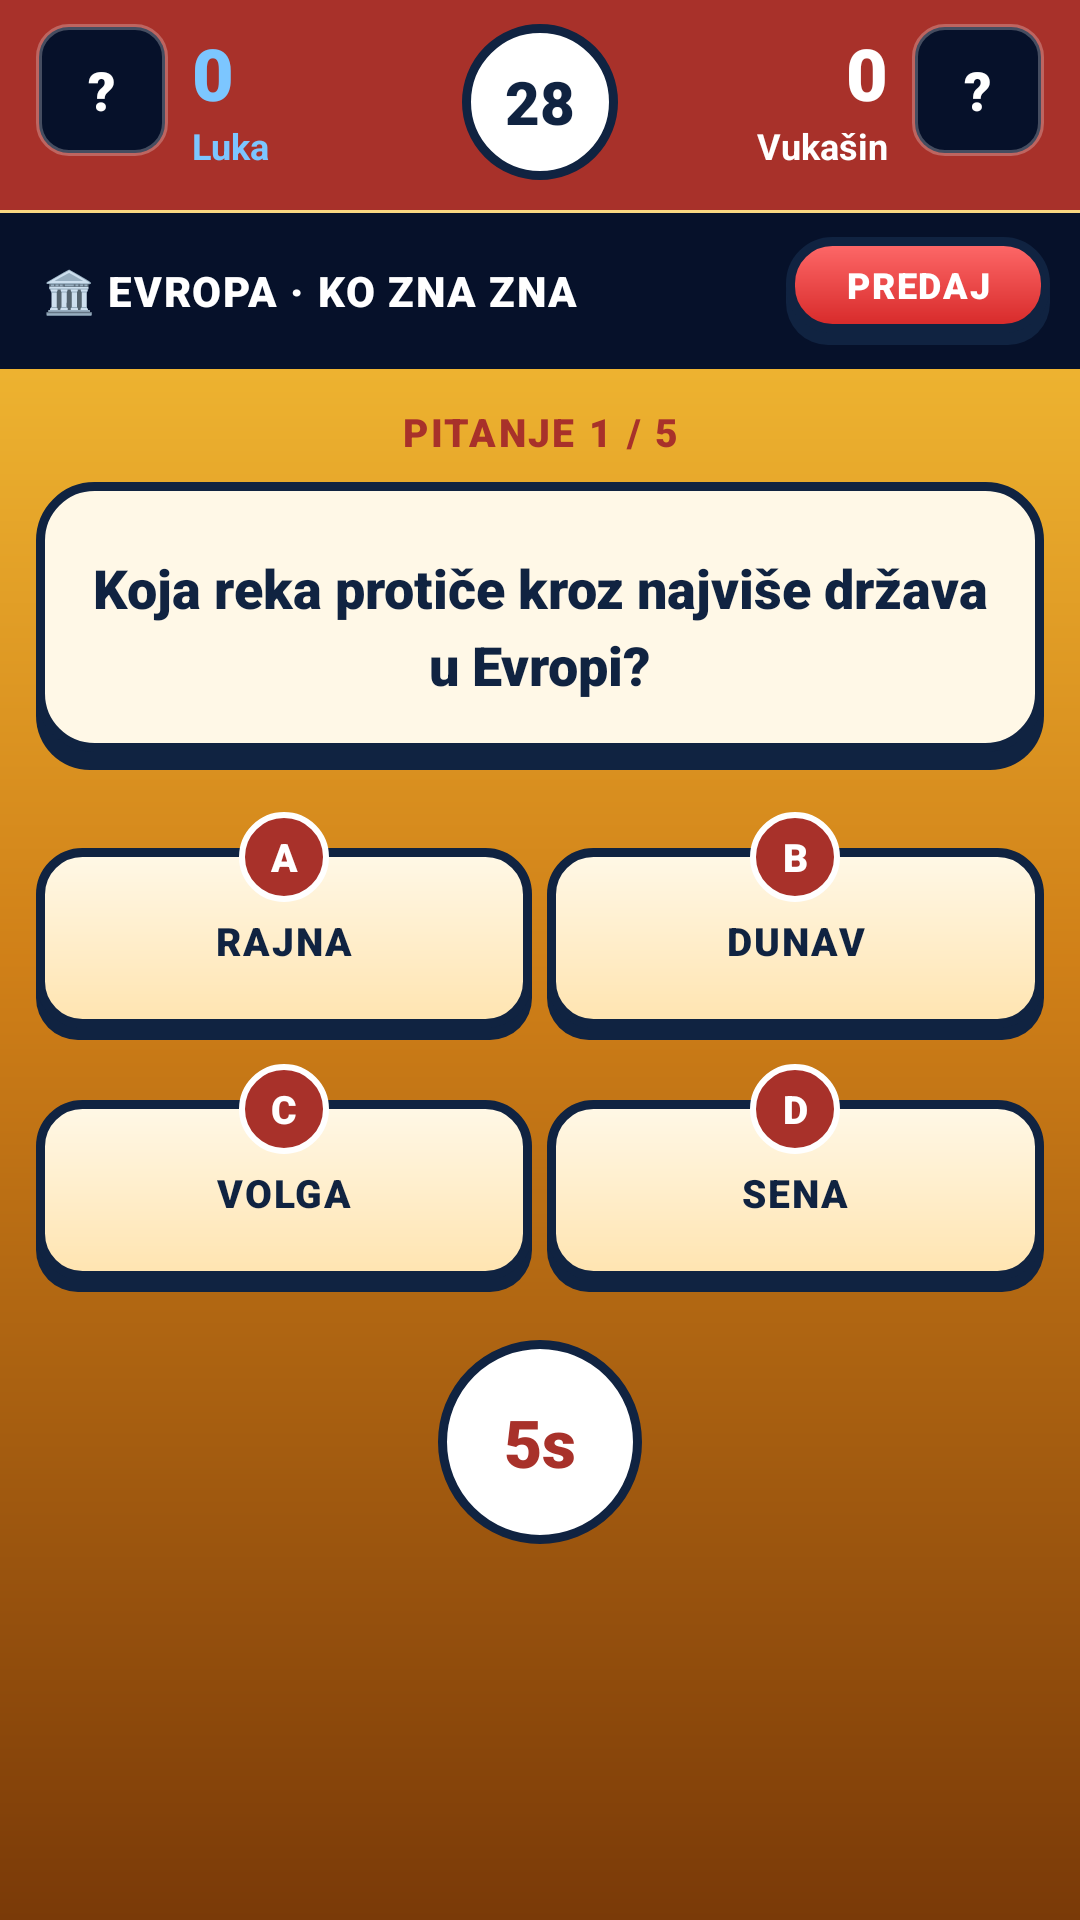

Screen size 1080 × 1920. Icon name, then its center in pixels as point (x, y):
timer ring: point (540, 102), point (540, 1442)
